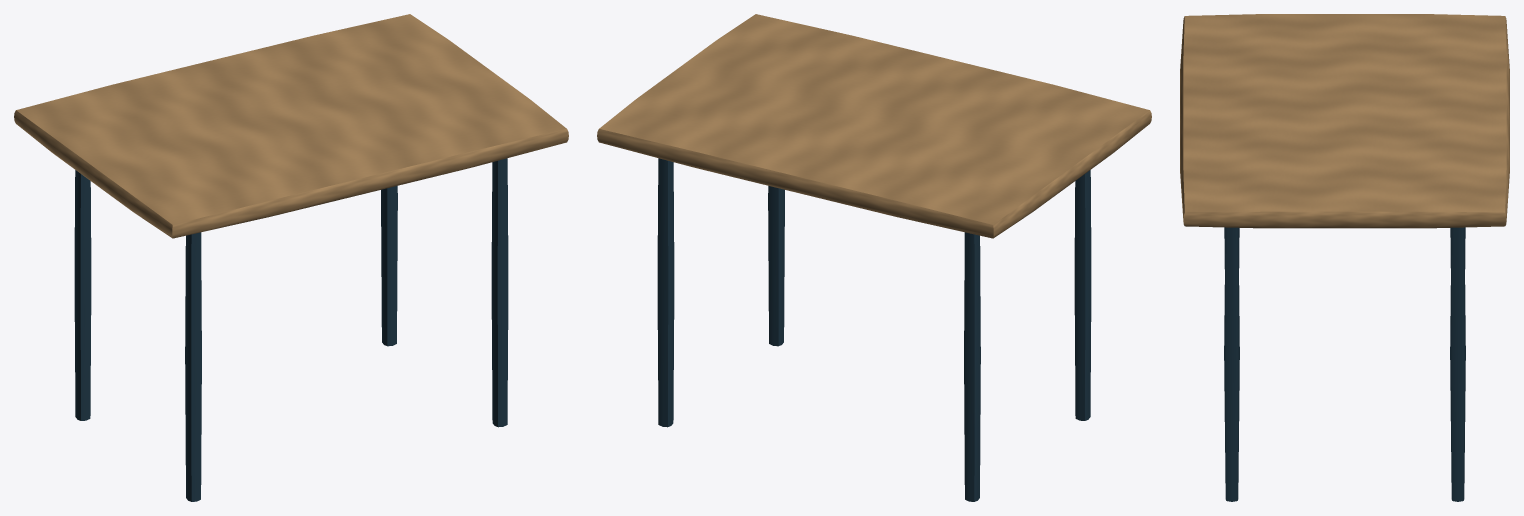
File: meeting-table.glb
The picture shows the model from 3 angles, left to right: view 1: azimuth 30°, elevation 25°; view 2: azimuth 150°, elevation 25°; view 3: azimuth 270°, elevation 25°; orthographic projection. The views are drawn at different scales.
Parts seen in each view (by area): view 1: meeting-table; view 2: meeting-table; view 3: meeting-table.
Boxes of the visible parts, bbox=[...] form: meeting-table: bbox=[14, 14, 568, 501]; meeting-table: bbox=[597, 14, 1151, 501]; meeting-table: bbox=[1180, 14, 1509, 501].
Bounding box in the file's own units: 1.05 × 0.7675 × 0.73.
5 materials, 5 textured.
